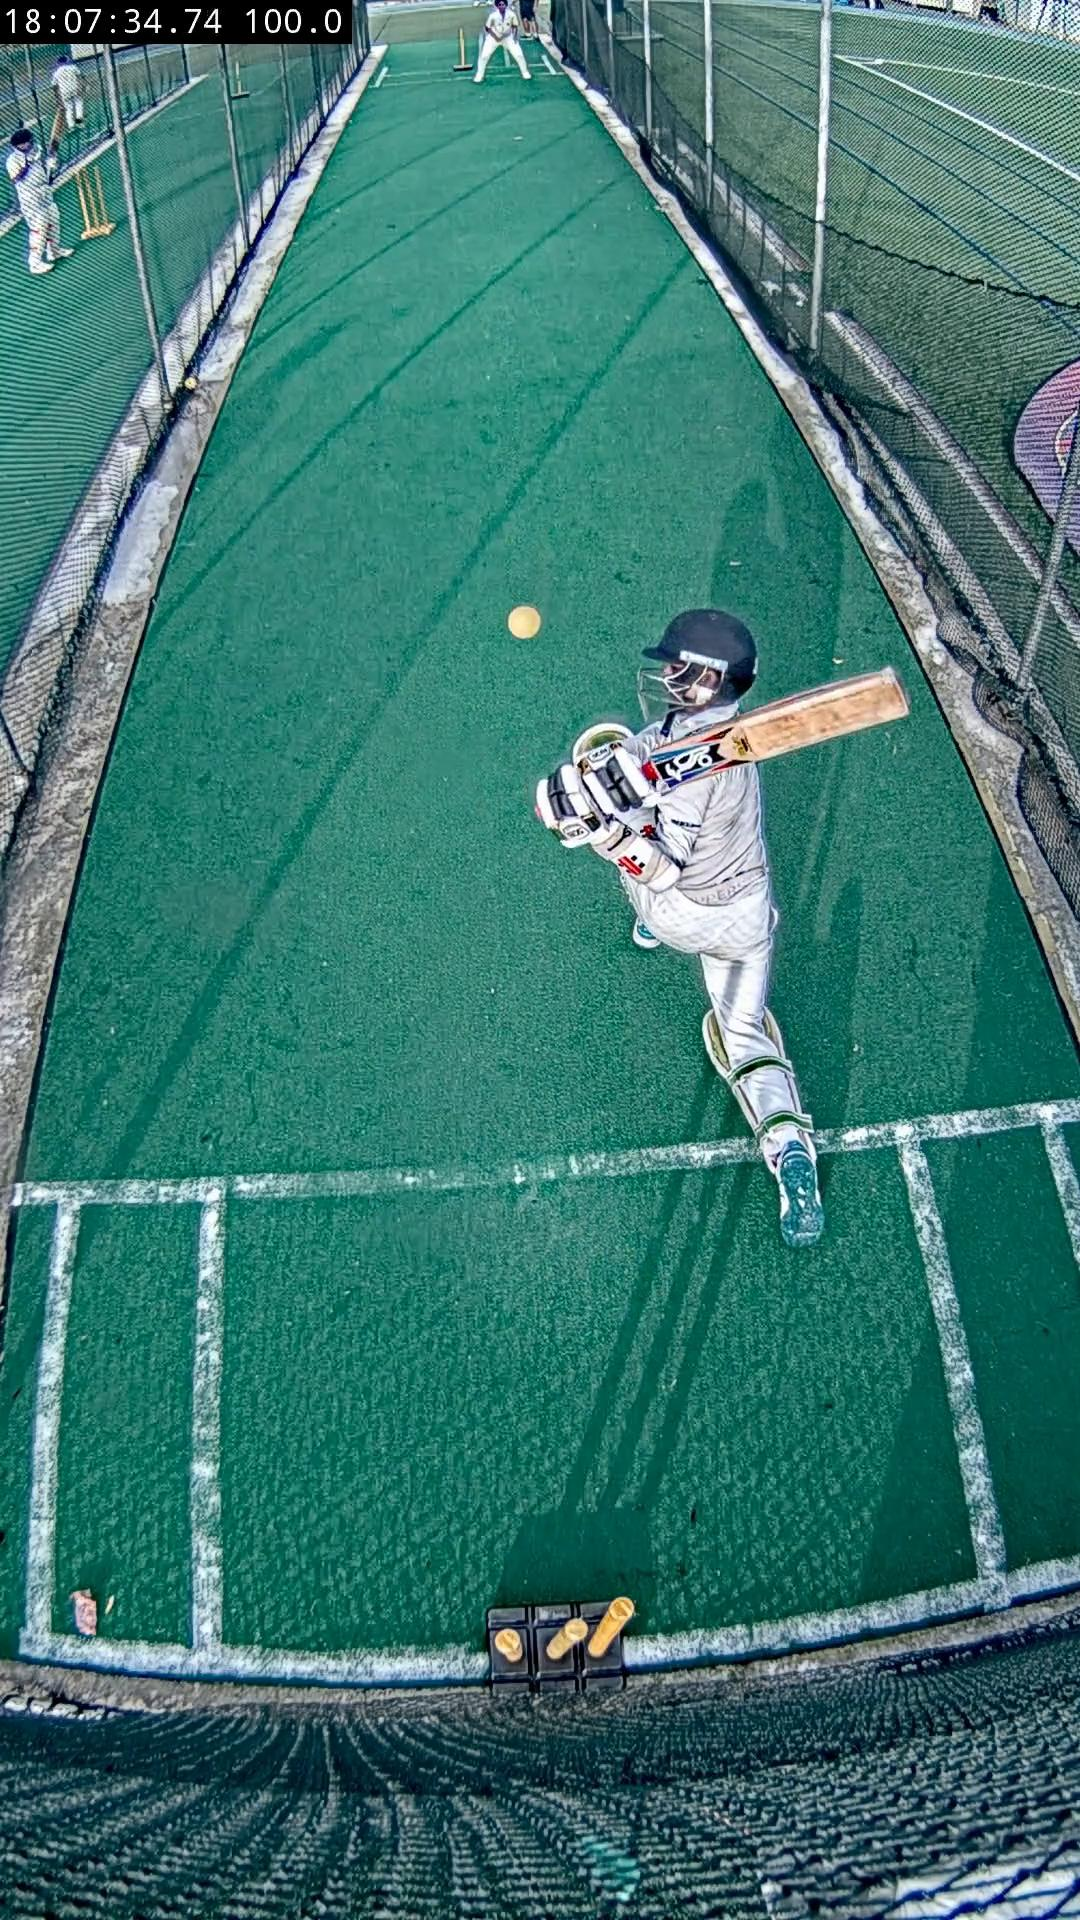ball: (506, 604, 541, 637)
bat: (641, 667, 907, 795)
gloves: (537, 742, 661, 848)
helmet: (641, 608, 757, 708)
pads: (570, 720, 634, 761)
stumps: (488, 1597, 634, 1692)
